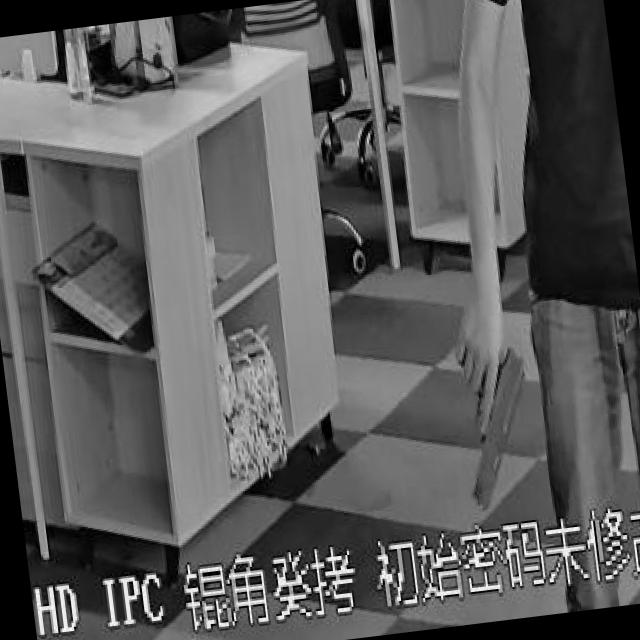Guns: (413, 308, 556, 542)
